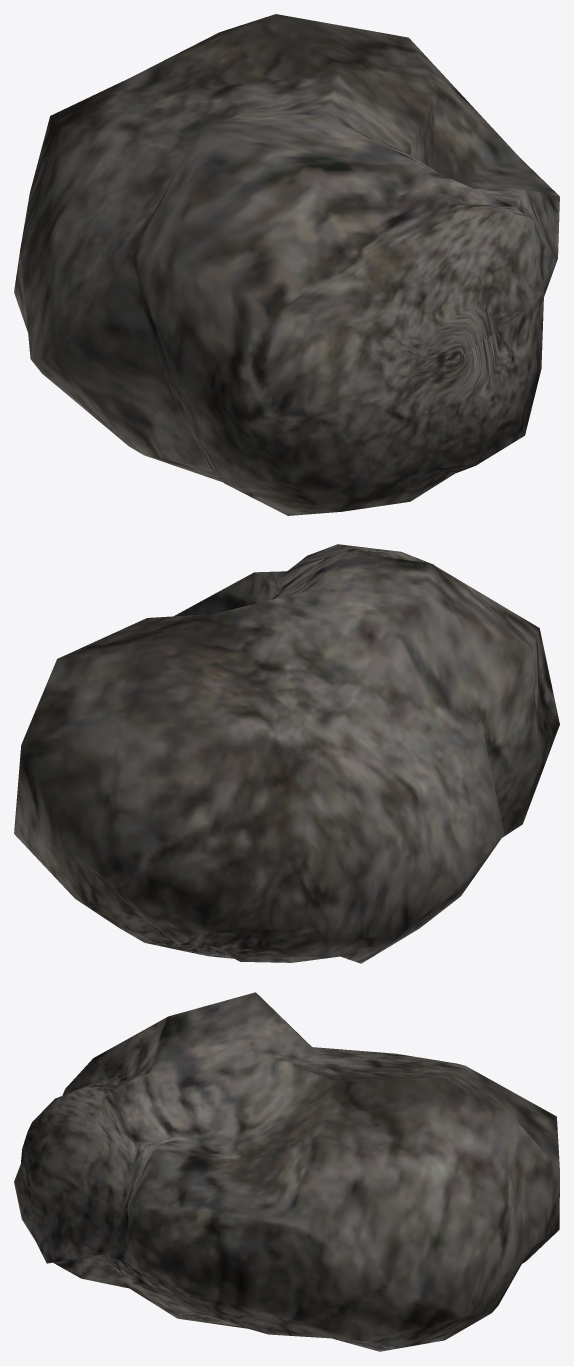
Rendered from rock_debris03.dae.
The picture shows the model from 3 angles, top to bottom: view 1: azimuth 30°, elevation 25°; view 2: azimuth 150°, elevation 25°; view 3: azimuth 270°, elevation 25°; orthographic projection. The views are drawn at different scales.
Visible parts, largest first — view 1: Group4; view 2: Group4; view 3: Group4.
Part boxes in pixels (<box>): Group4: <box>14,14,559,515</box>; Group4: <box>14,544,559,963</box>; Group4: <box>14,992,559,1351</box>.
Bounding box in the file's own units: 0.0824 × 0.06 × 0.104.
